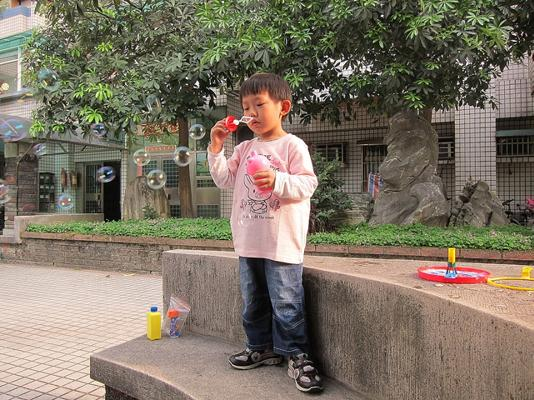person: (207, 73, 326, 394)
